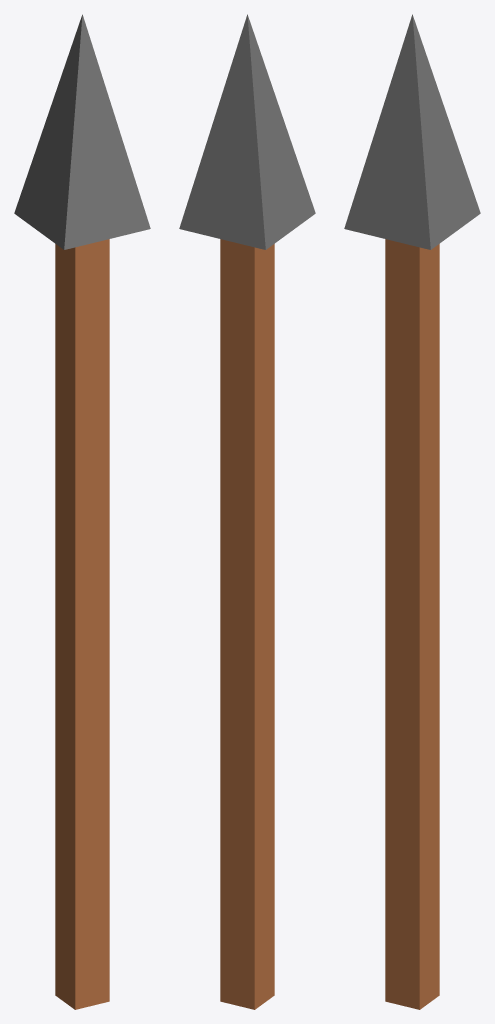
Rendered from pike.fbx.
3 views of the same model, side by side, from view 1: azimuth 30°, elevation 25°; view 2: azimuth 150°, elevation 25°; view 3: azimuth 330°, elevation 25° (orthographic).
Visible parts, largest first — view 1: pike; view 2: pike; view 3: pike.
Part boxes in pixels (left/top/right/bottom): pike: left=14, top=14, right=150, bottom=1009; pike: left=179, top=14, right=315, bottom=1009; pike: left=344, top=14, right=480, bottom=1009.
Size of the model in its own units: 35 by 380 by 35.
Materials: 1 (1 with a texture image).
